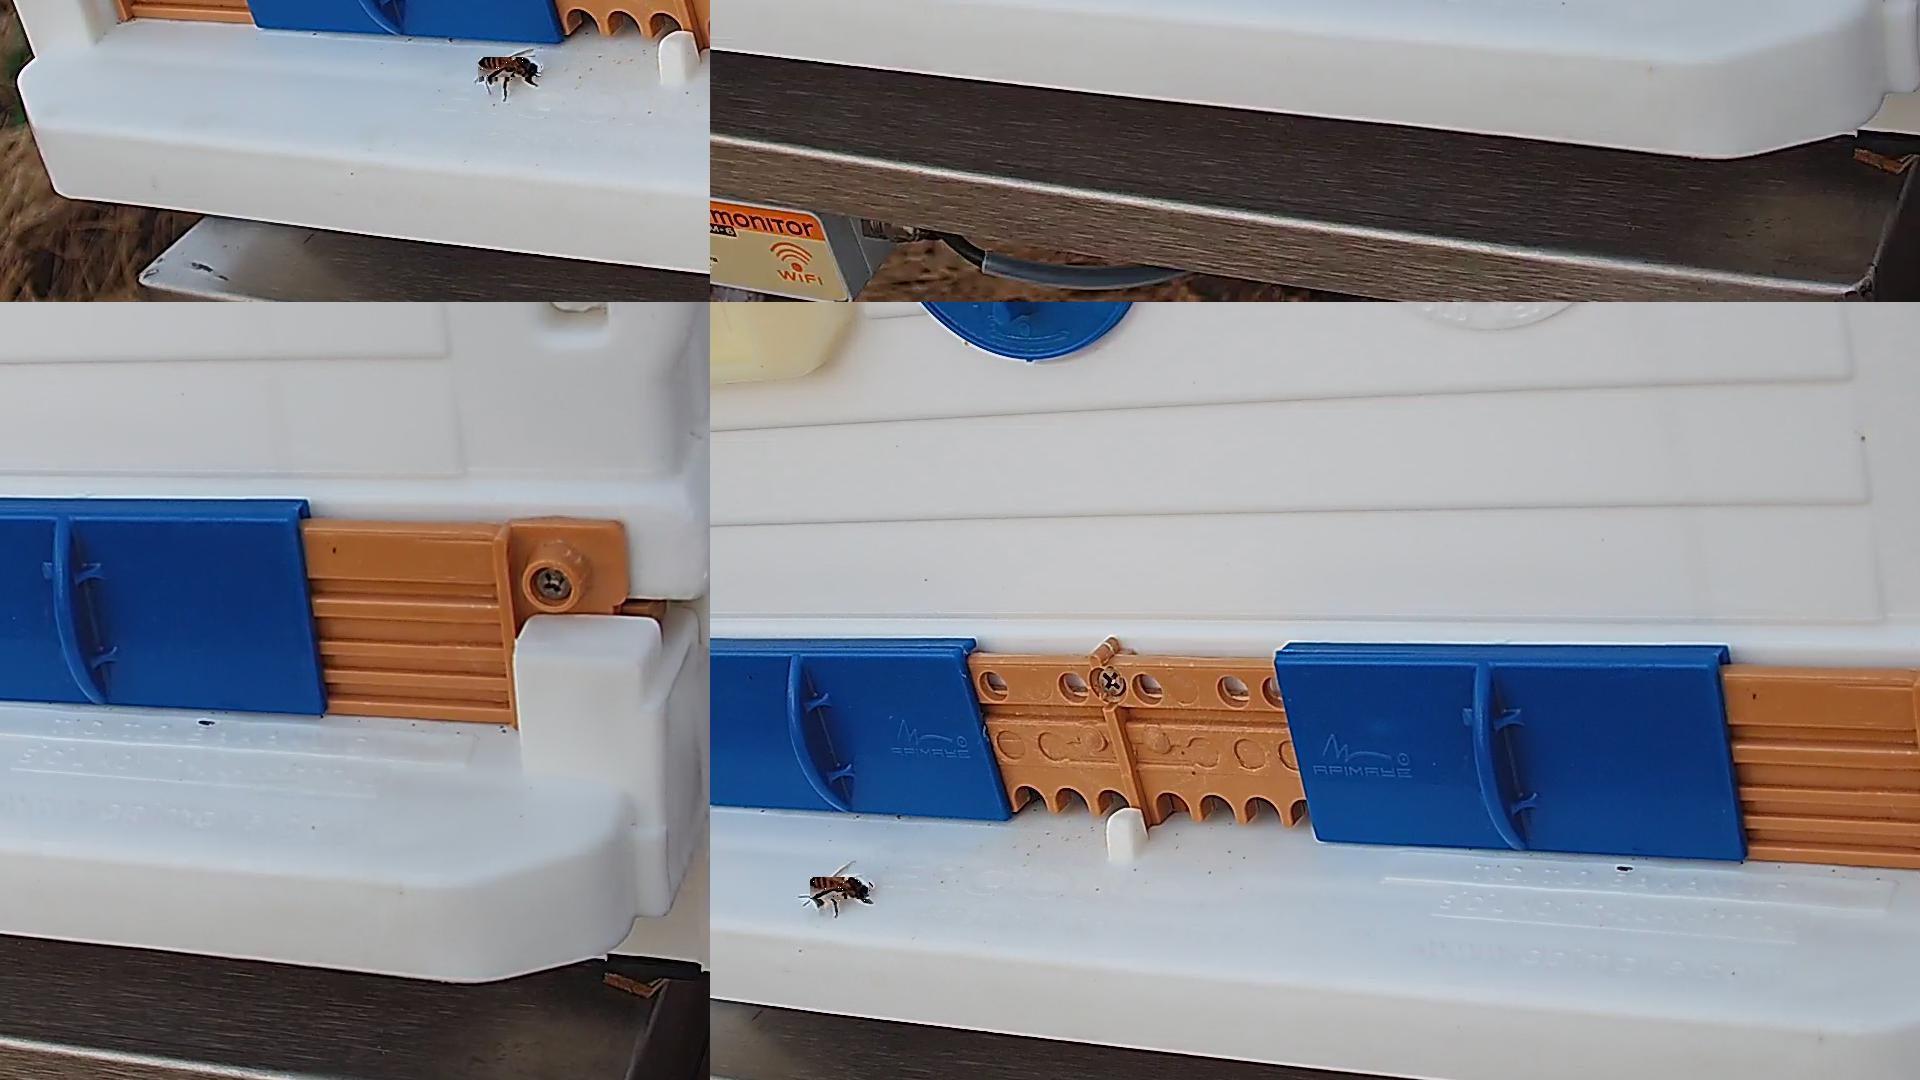bee: (811, 878, 874, 903), (479, 58, 542, 82)
